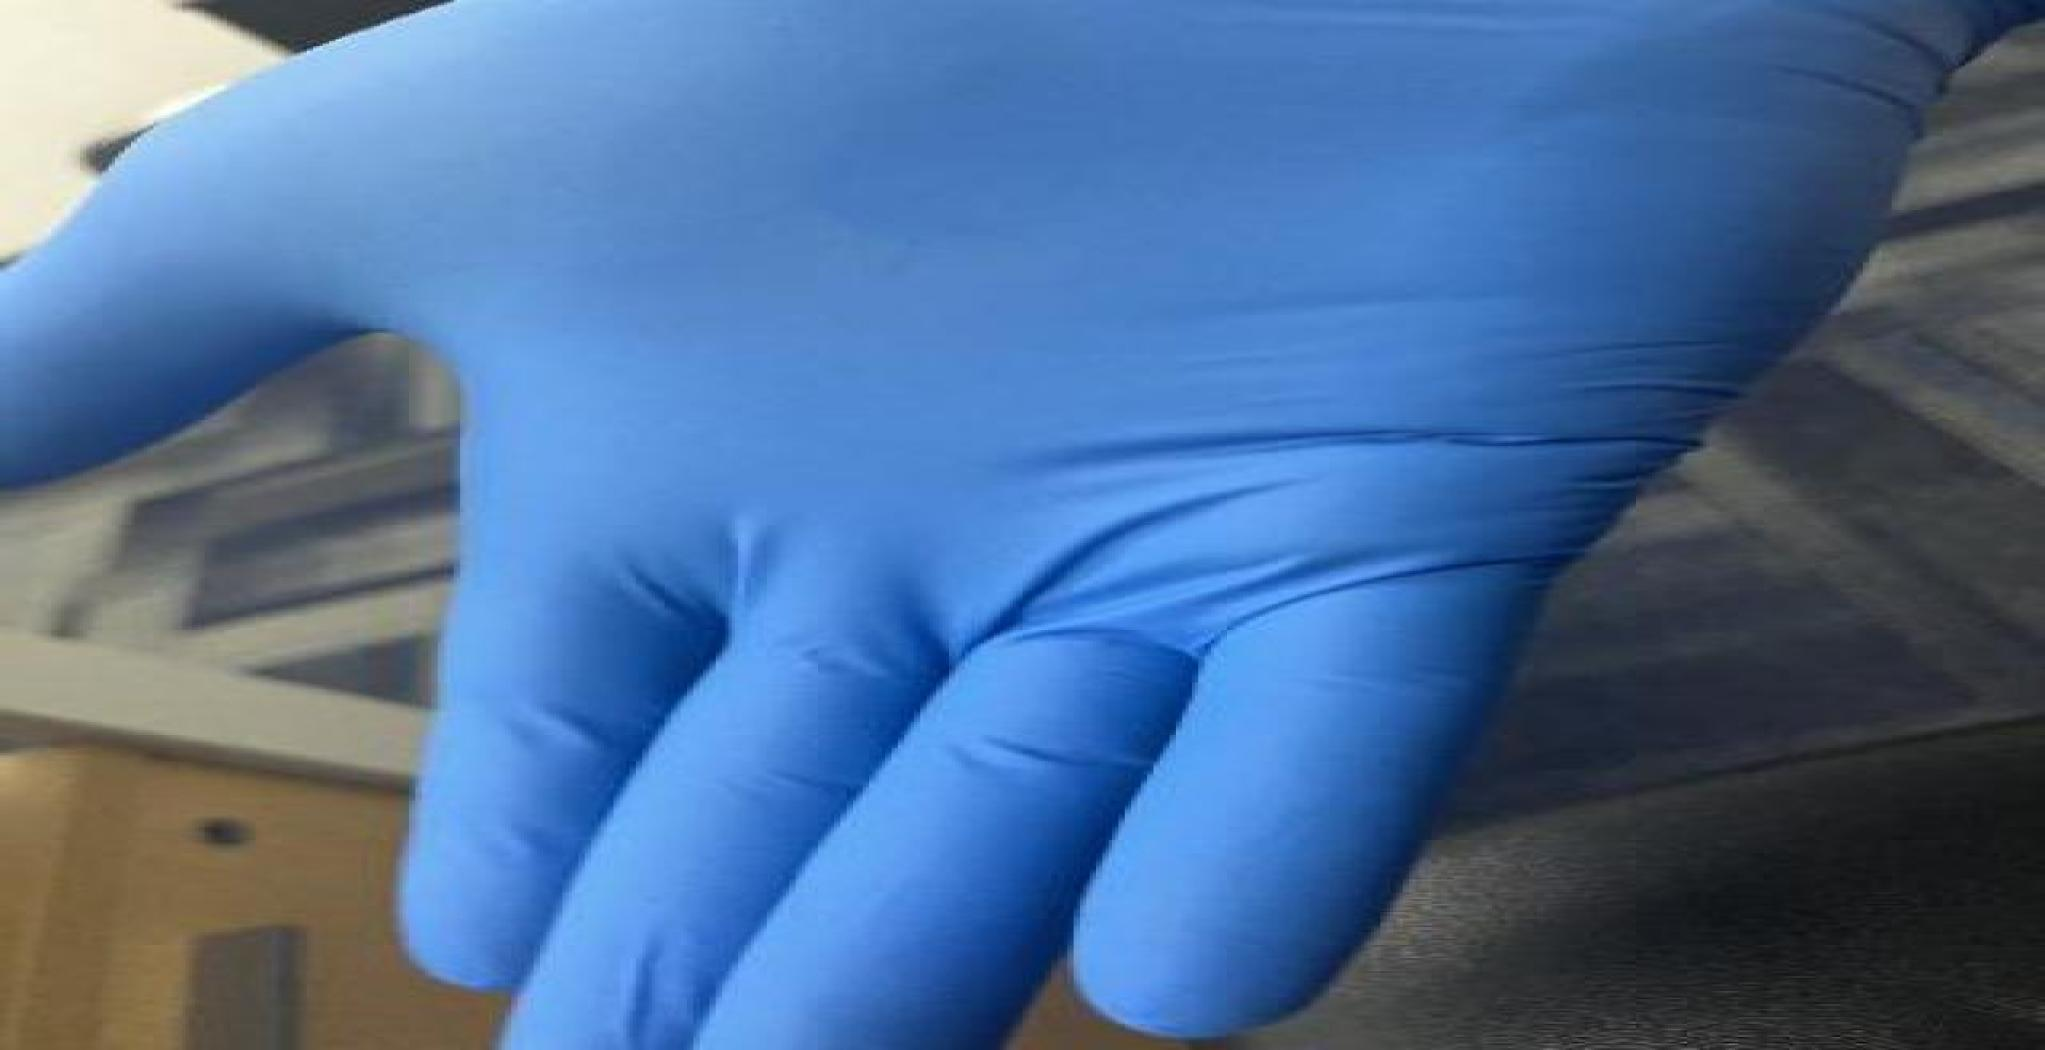gloved: (0, 0, 2035, 1048)
